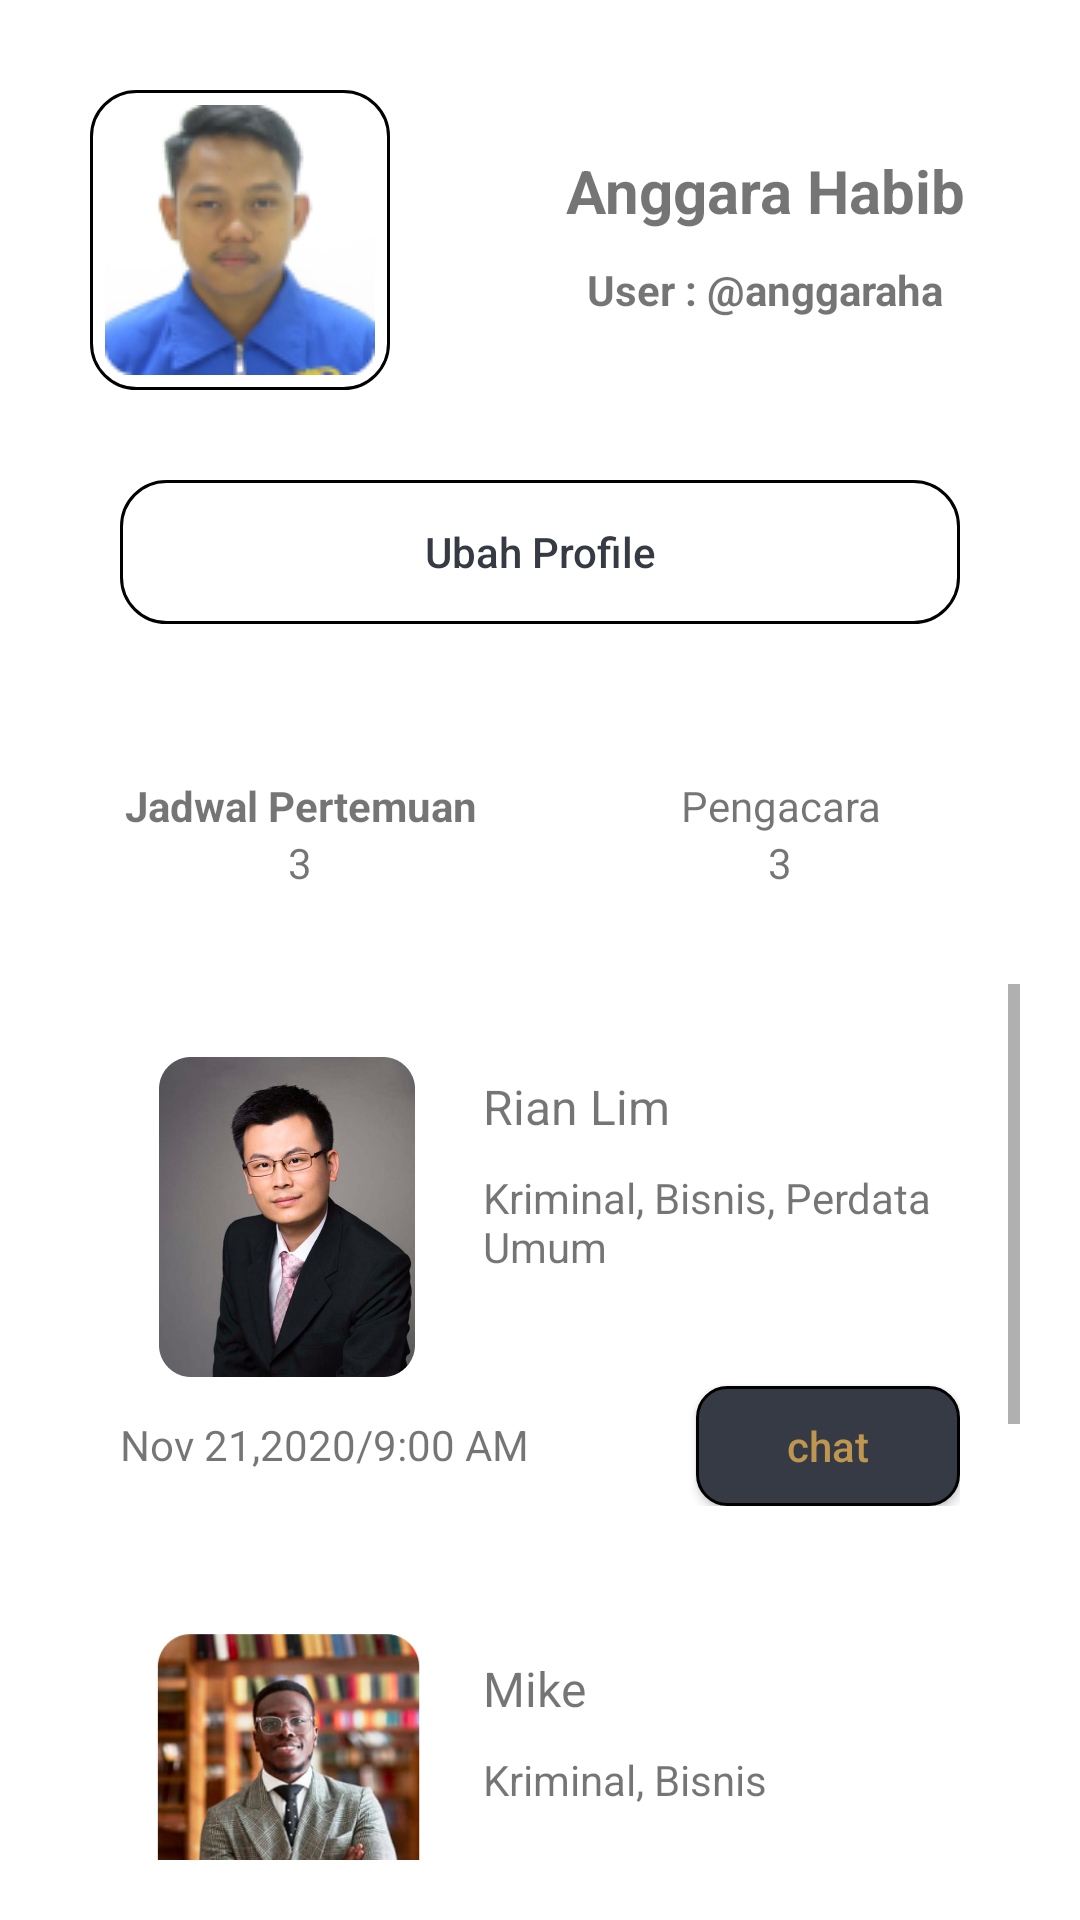

Where to tap for icons on this 1080×1920 app screen, as (x=x, y=y):
userpic: (x=240, y=240)
